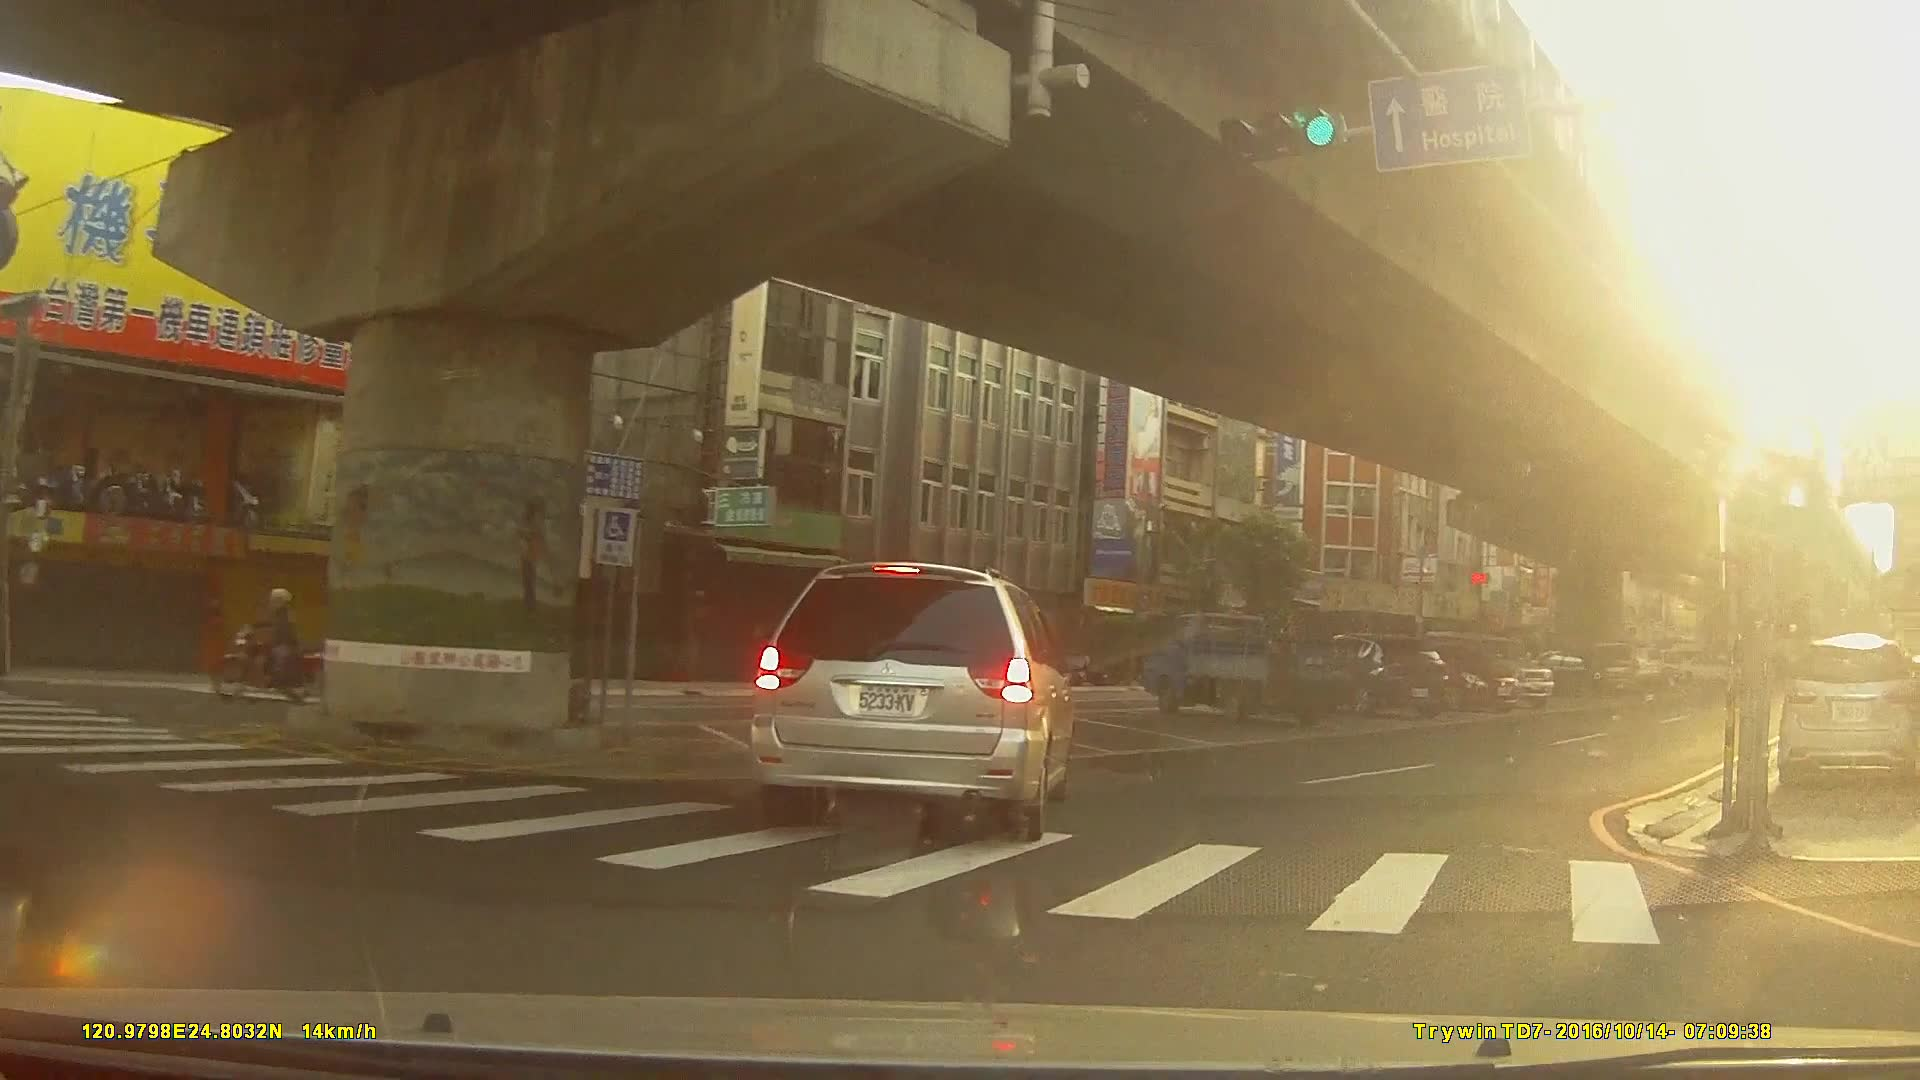rider: (210, 589, 329, 706)
vehicle: (749, 559, 1076, 843), (1138, 609, 1355, 725), (1778, 635, 1911, 794), (1307, 631, 1448, 717), (1387, 639, 1522, 711), (1513, 653, 1605, 701)
